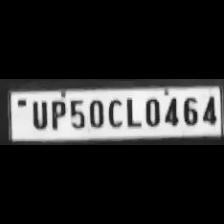0: (140, 94, 162, 125), (85, 96, 105, 128)
4: (160, 94, 180, 126), (199, 93, 219, 125)
5: (66, 96, 86, 130)
6: (179, 94, 199, 126)
C: (105, 96, 123, 128)
L: (122, 95, 142, 127)
P: (48, 97, 66, 129)
U: (27, 98, 49, 130)
